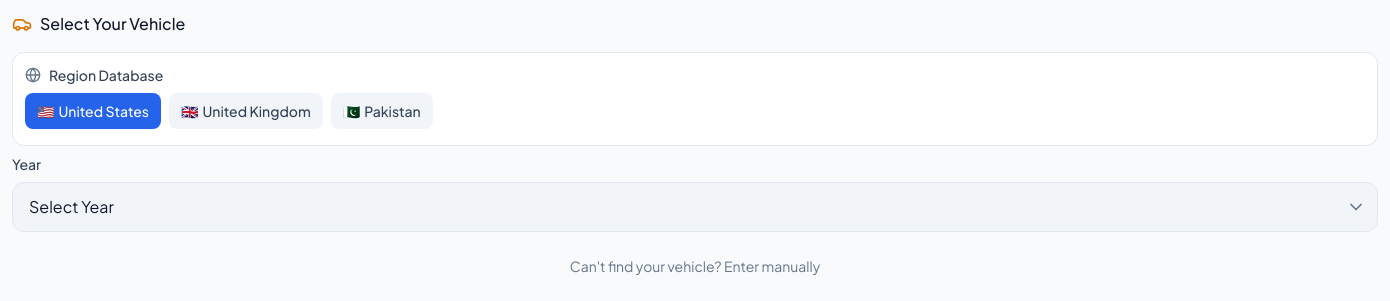
Test case: VehicleSelector › Manual Mode › should switch to manual entry mode
The width and height of the screenshot is (1390, 301).
What coordinates should you click on to do the following:
click the button "Can't find your vehicle? Enter manually"
I would click on:
 (695, 266)
Its box is [12,248,1378,284].
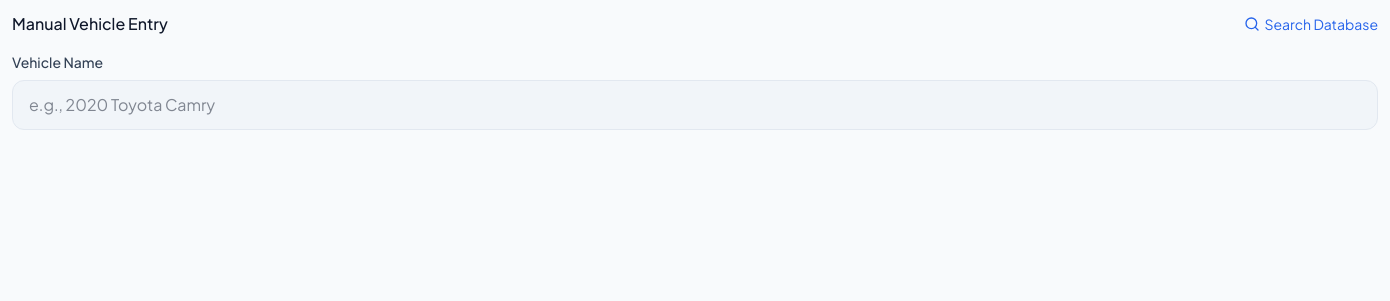
Check: the heading "Manual Vehicle Entry" is shown, box [12,12,168,36]
